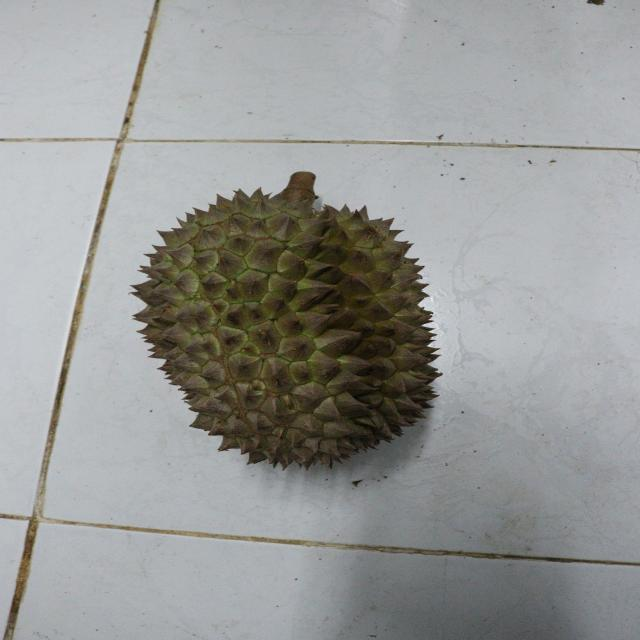mature: (130, 190, 442, 470)
